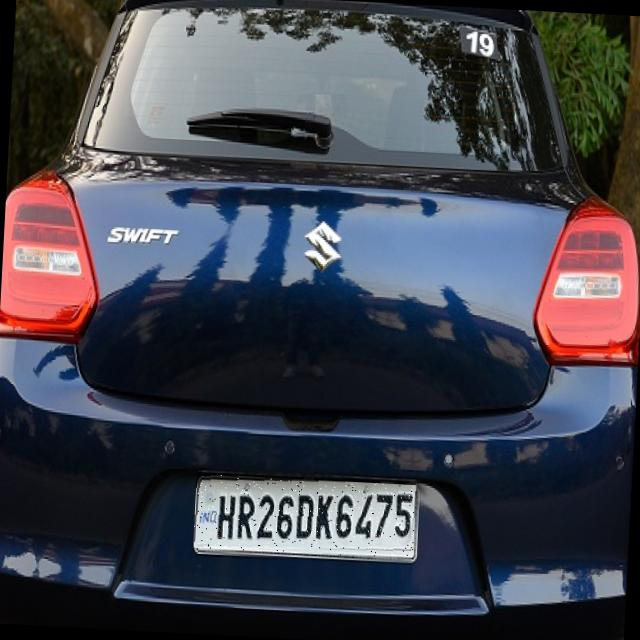Plate: (194, 475, 419, 560)
